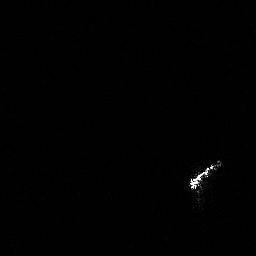ship: (185, 157, 226, 193)
